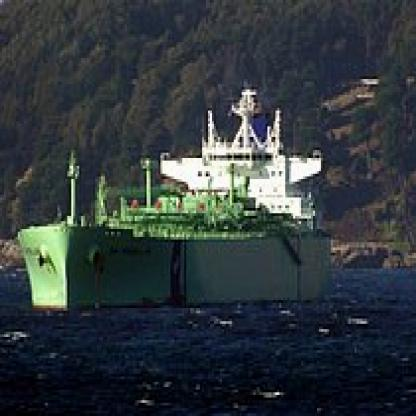Tanker: (12, 79, 349, 319)
